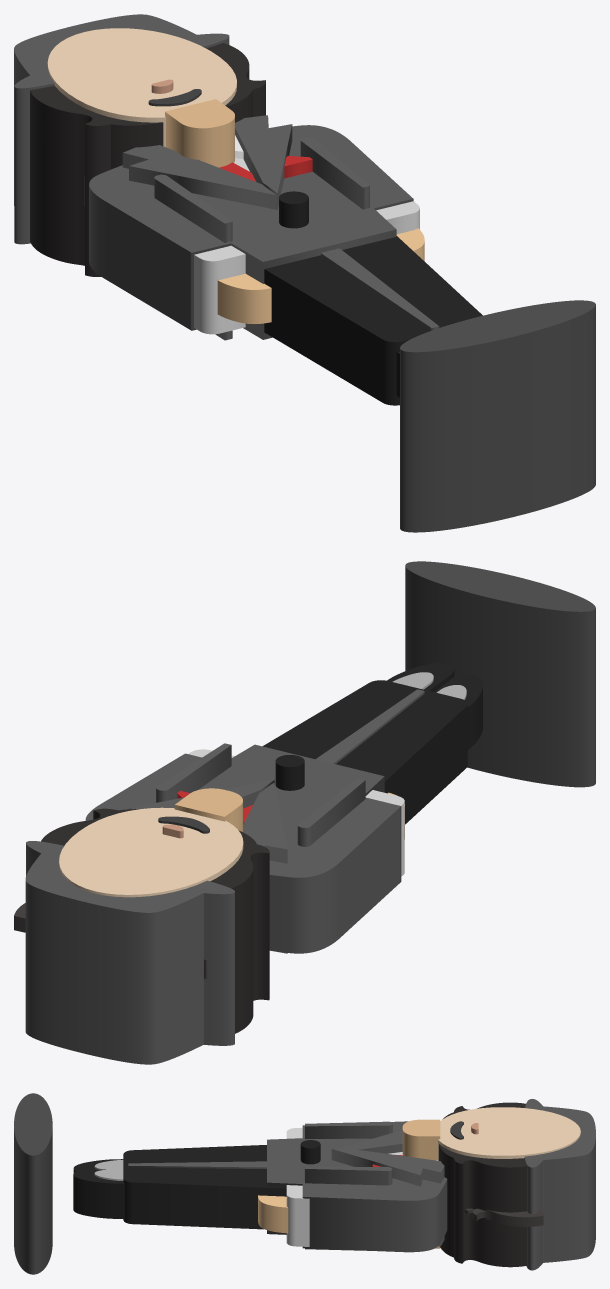
The model's file is emoji_u1f574_1f3fb.glb.
The picture shows the model from 3 angles, top to bottom: view 1: azimuth 30°, elevation 25°; view 2: azimuth 150°, elevation 25°; view 3: azimuth 270°, elevation 25°; orthographic projection. The views are drawn at different scales.
Visible parts, largest first — view 1: emoji_u1f574_1f3fb; view 2: emoji_u1f574_1f3fb; view 3: emoji_u1f574_1f3fb.
Part boxes in pixels (x1,y1,x2,y2): emoji_u1f574_1f3fb: (14,14,595,532); emoji_u1f574_1f3fb: (14,561,595,1064); emoji_u1f574_1f3fb: (14,1093,595,1274).
Size of the model in its own units: 0.0106 by 0.0074 by 0.0328.
